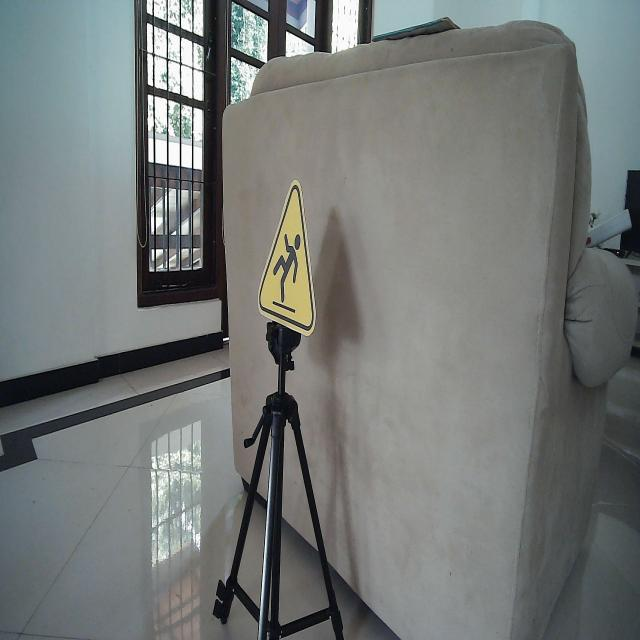slippery_sign: (256, 177, 318, 338)
